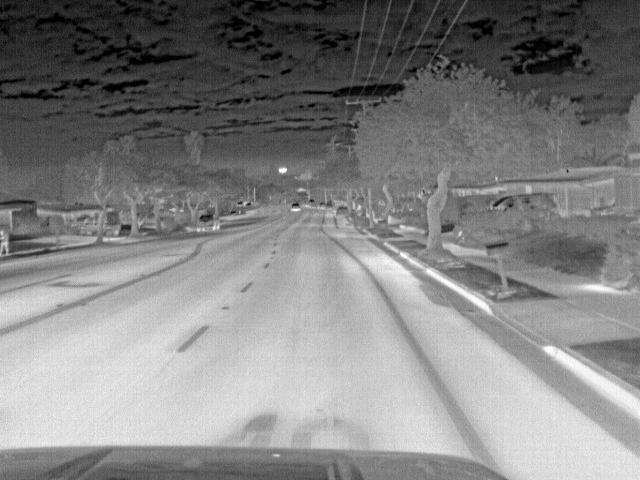car: (488, 194, 558, 215), (195, 212, 219, 231), (335, 206, 350, 220), (289, 200, 303, 212)
person: (0, 229, 13, 255)
